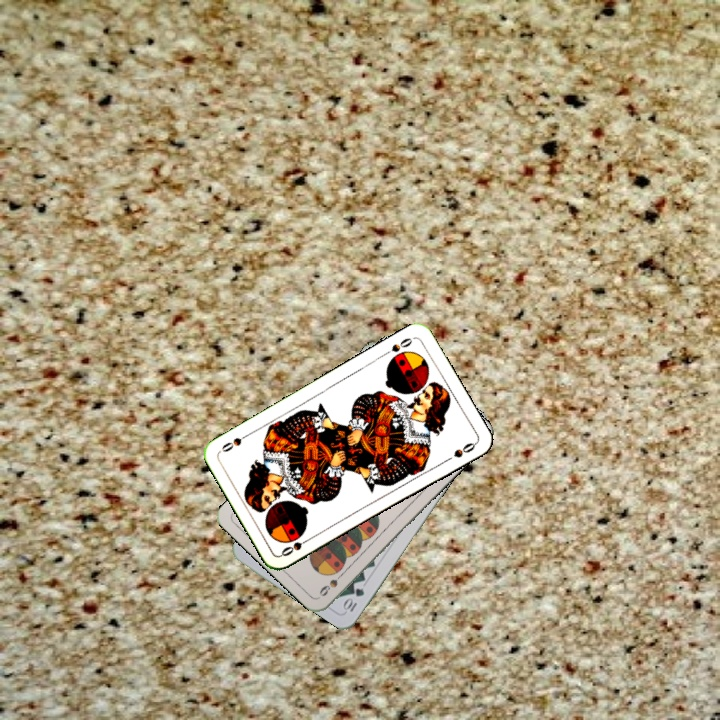G10: (340, 584, 367, 615)
S9: (315, 567, 348, 599)
SO: (277, 533, 314, 559), (379, 334, 415, 359)
